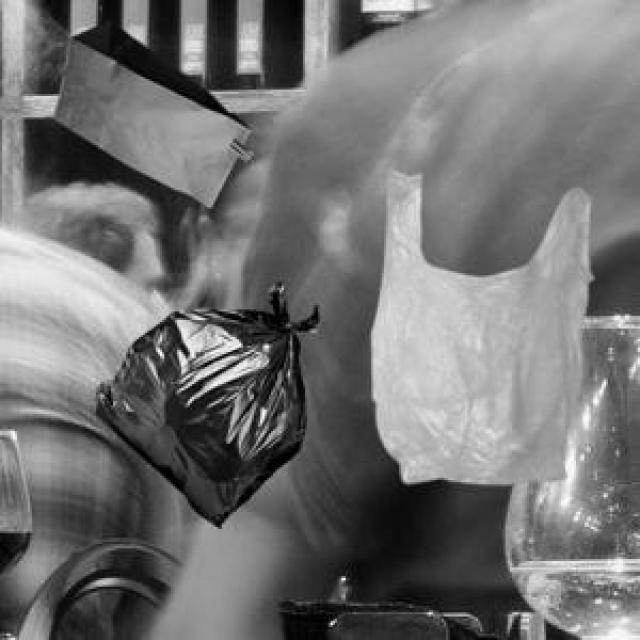miscellaneous trash: (92, 277, 316, 523)
paper: (49, 17, 248, 203)
